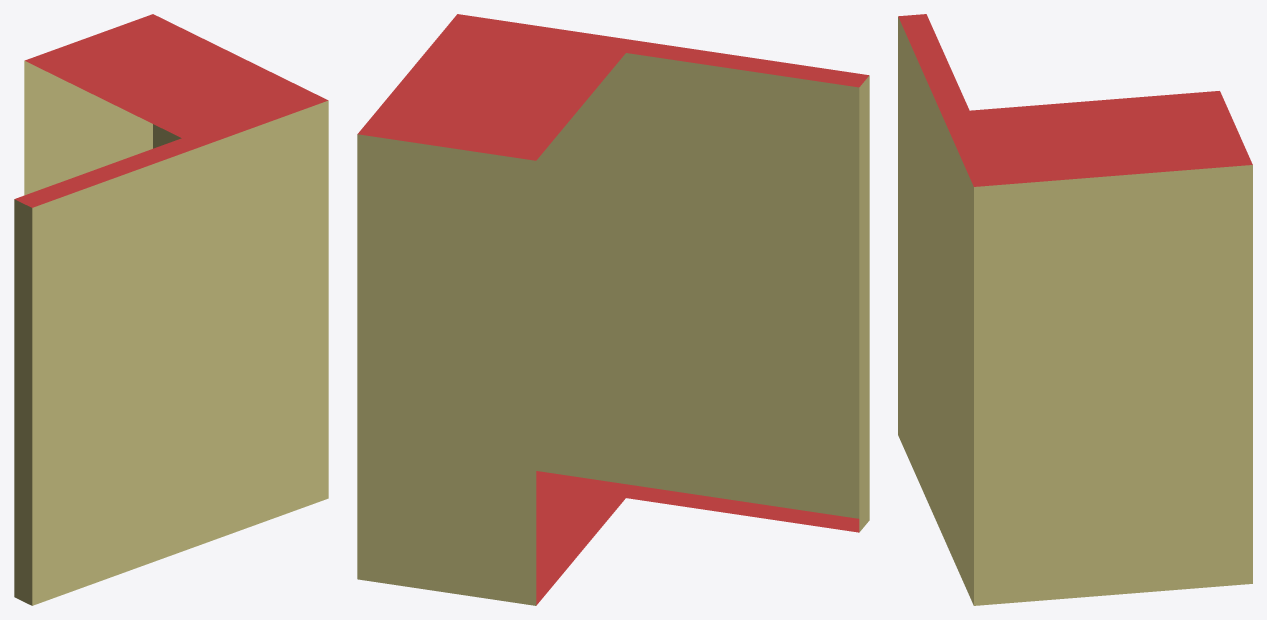
3 views of the same model, side by side, from view 1: azimuth 30°, elevation 25°; view 2: azimuth 150°, elevation 25°; view 3: azimuth 270°, elevation 25° (orthographic). The views are drawn at different scales.
Bounding box in the file's own units: 8.48 × 7.35 × 9.57.
